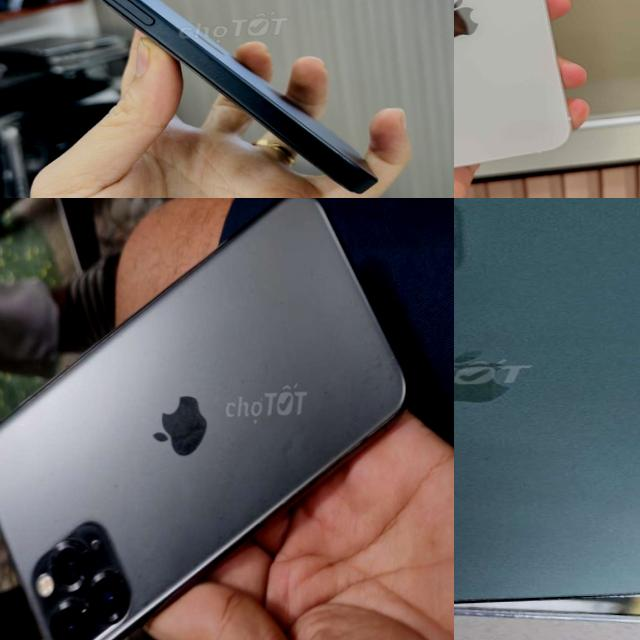gen_11: (0, 198, 404, 640)
gen_12_13: (454, 198, 640, 622), (454, 0, 577, 179)
gen_15: (1, 0, 387, 198)
